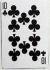ten: (1, 1, 49, 70)
